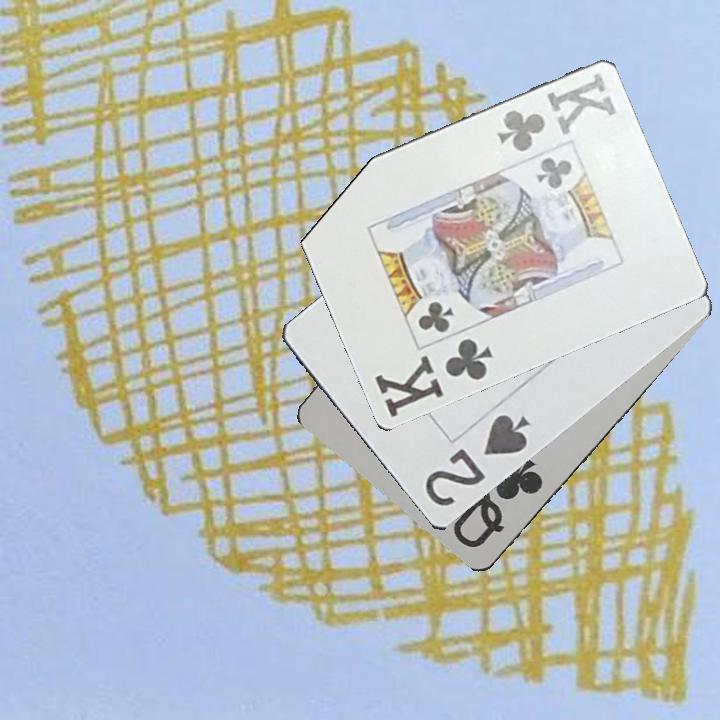2s: (421, 411, 534, 510)
Kc: (492, 70, 619, 156), (371, 335, 496, 421)
Qc: (449, 452, 547, 552)
